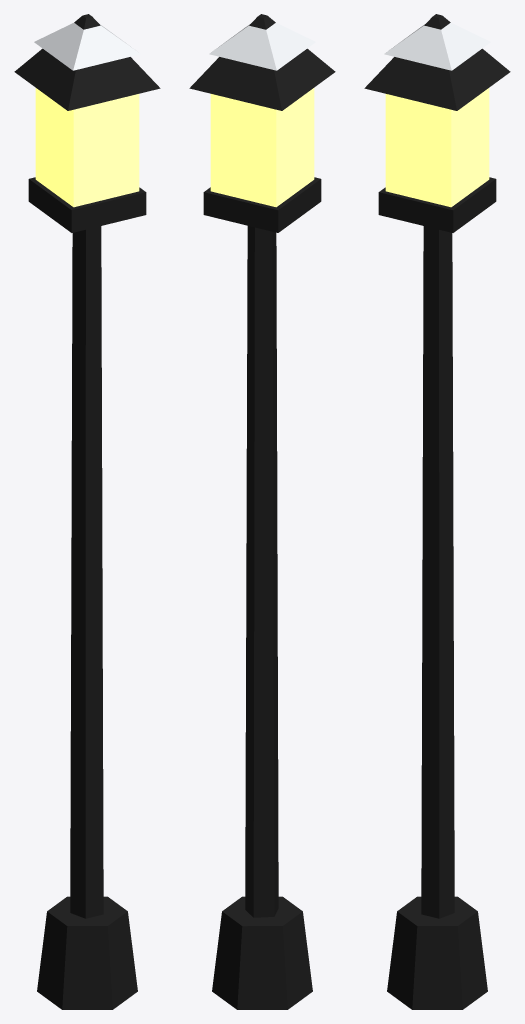
The model's file is lamp-post.glb.
3 views of the same model, side by side, from view 1: azimuth 30°, elevation 25°; view 2: azimuth 150°, elevation 25°; view 3: azimuth 330°, elevation 25° (orthographic).
Visible parts, largest first — view 1: lamp-post; view 2: lamp-post; view 3: lamp-post.
Part boxes in pixels (<box>): lamp-post: <box>14,14,160,1009</box>; lamp-post: <box>189,14,335,1009</box>; lamp-post: <box>364,14,510,1009</box>.
Bounding box in the file's own units: 0.4244 × 4.26 × 0.4244.
